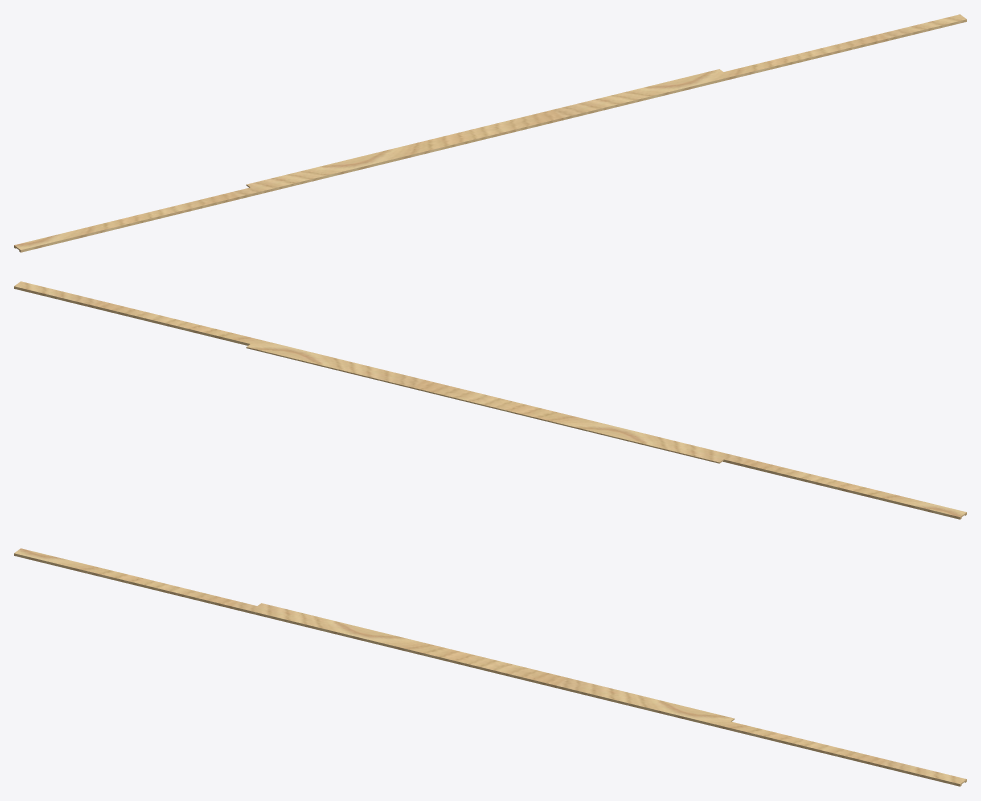
3 renders of one model, top to bottom at view 1: azimuth 30°, elevation 25°; view 2: azimuth 150°, elevation 25°; view 3: azimuth 330°, elevation 25°, orthographic.
Bounding box in the file's own units: 1.81 × 0.00454 × 0.0363.
